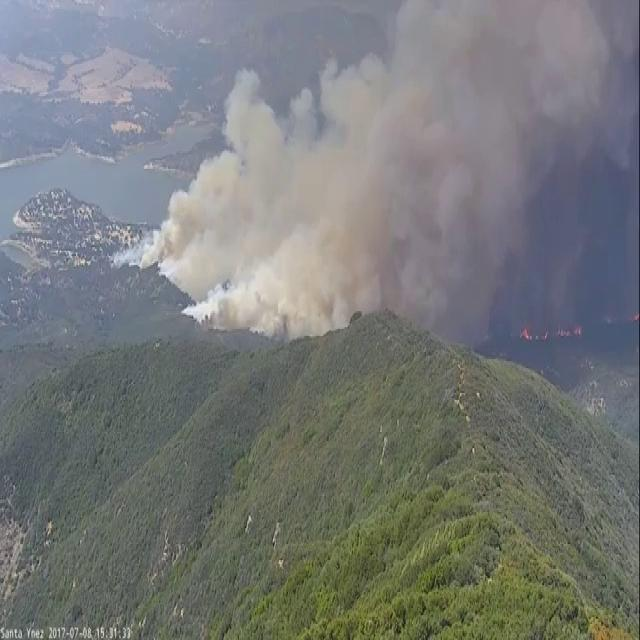Fire: (519, 324, 551, 342)
Smoke: (393, 163, 474, 331), (144, 188, 208, 268), (250, 283, 329, 338), (162, 236, 234, 296), (200, 288, 266, 337), (180, 285, 220, 327), (354, 259, 382, 313), (106, 244, 143, 268), (330, 292, 348, 328)
